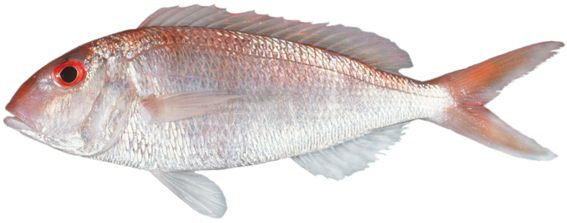fish: (3, 4, 565, 219)
